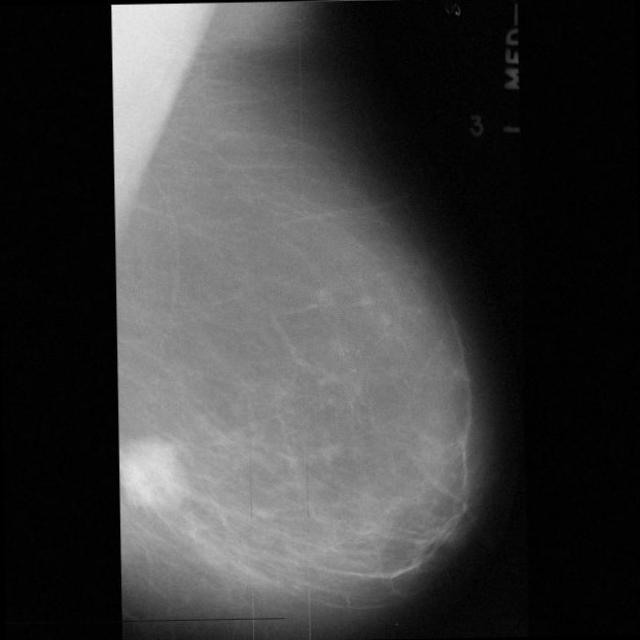MISC: (109, 432, 195, 518)
